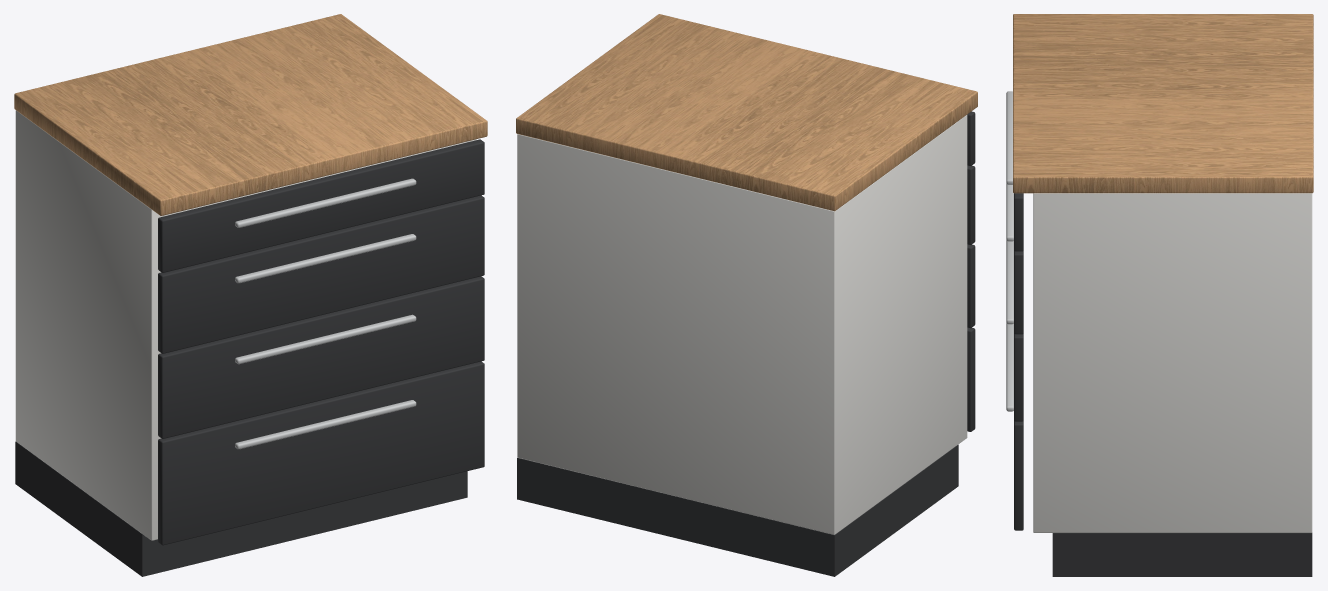
File: base-black.glb
3 views of the same model, side by side, from view 1: azimuth 30°, elevation 25°; view 2: azimuth 150°, elevation 25°; view 3: azimuth 270°, elevation 25° (orthographic). The views are drawn at different scales.
Visible parts, largest first — view 1: worktop, carcass, front, front.001, front.002, front.003, plinth, pull.002, pull, pull.001, pull.003; view 2: carcass, worktop, plinth, front, front.001, front.002; view 3: carcass, worktop, plinth, front, front.001, front.002, pull, pull.001, pull.003, front.003, pull.002.
Part boxes in pixels (x1,y1,x2,y2): worktop: [14, 14, 487, 215]; carcass: [15, 110, 476, 540]; front: [158, 361, 484, 545]; front.001: [158, 276, 484, 438]; front.002: [158, 195, 484, 353]; front.003: [158, 139, 484, 272]; plinth: [15, 441, 467, 576]; pull.002: [235, 234, 416, 283]; pull: [235, 400, 416, 449]; pull.001: [235, 314, 416, 364]; pull.003: [235, 178, 416, 227]; carcass: [517, 115, 967, 534]; worktop: [516, 14, 977, 211]; plinth: [517, 444, 958, 576]; front: [967, 327, 975, 431]; front.001: [967, 244, 975, 328]; front.002: [967, 165, 975, 244]; carcass: [1033, 193, 1312, 532]; worktop: [1013, 14, 1313, 193]; plinth: [1052, 533, 1312, 576]; front: [1014, 420, 1023, 530]; front.001: [1014, 333, 1023, 421]; front.002: [1014, 250, 1023, 334]; pull: [1006, 323, 1013, 411]; pull.001: [1006, 240, 1013, 324]; pull.003: [1006, 91, 1012, 184]; front.003: [1014, 193, 1023, 251]; pull.002: [1006, 183, 1013, 241].
Bounding box in the file's own units: 0.805 × 0.918 × 0.6385.
4 materials, 1 textured.
